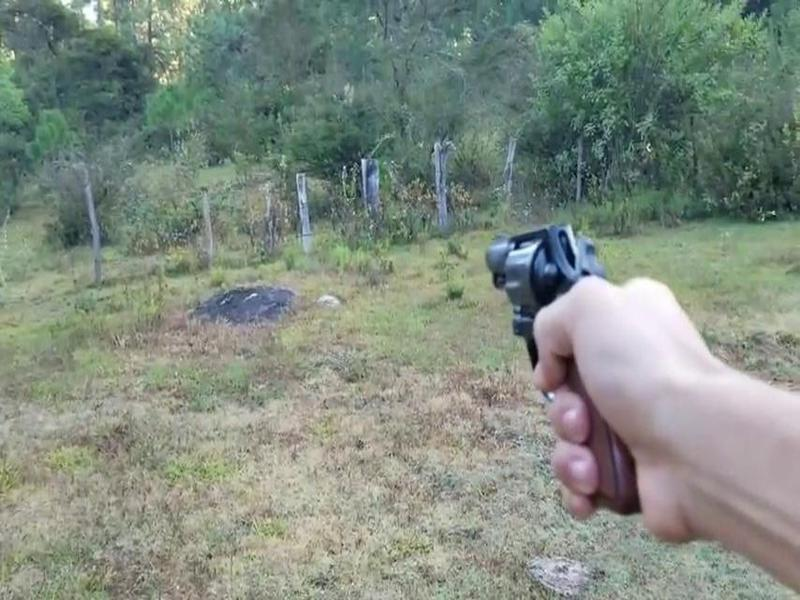Revolver: (484, 227, 651, 522)
